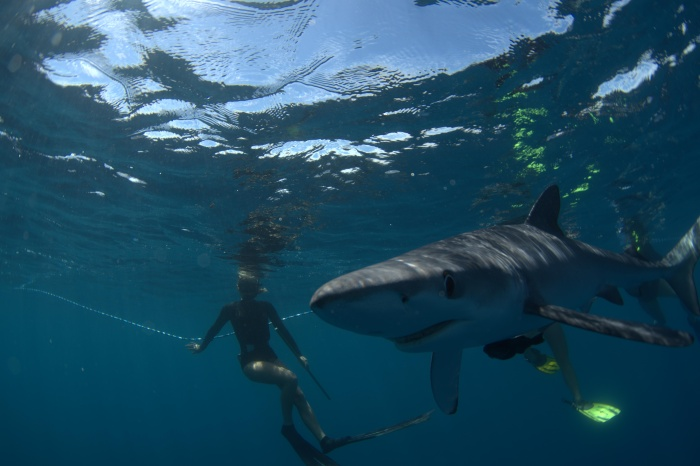Azul: (283, 167, 700, 419)
